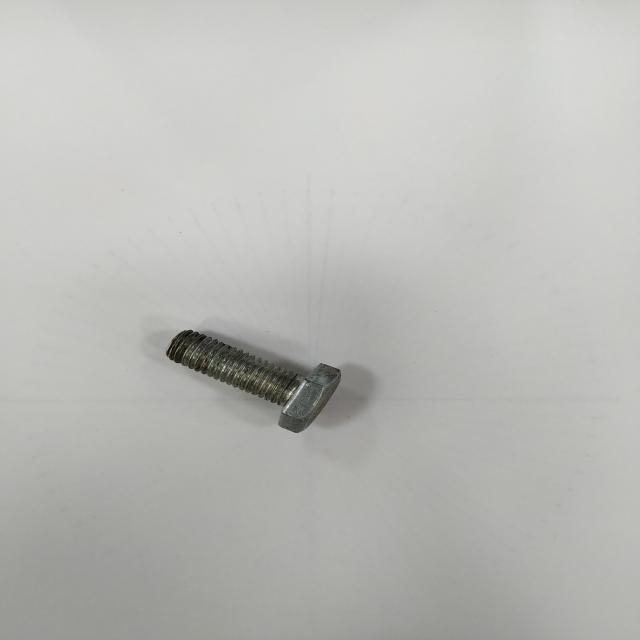Bolt: (165, 330, 341, 433)
